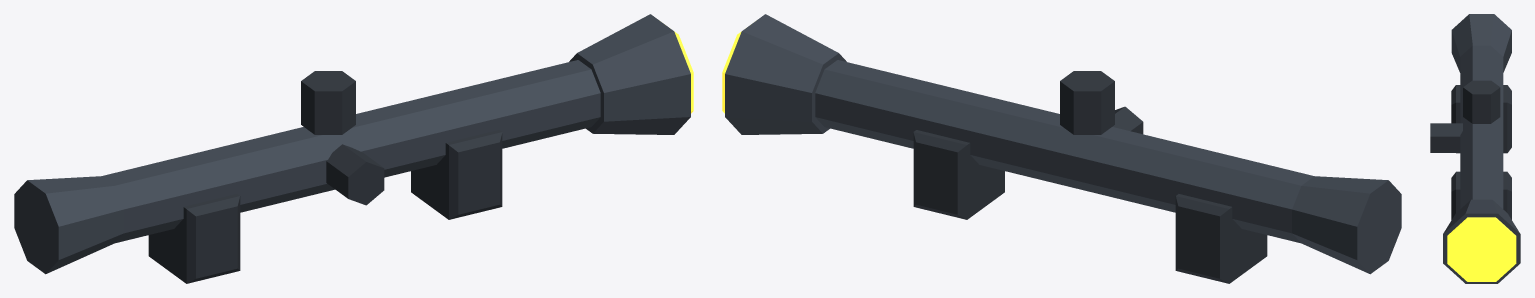
The model's file is sight_scope.glb.
3 views of the same model, side by side, from view 1: azimuth 30°, elevation 25°; view 2: azimuth 150°, elevation 25°; view 3: azimuth 270°, elevation 25° (orthographic). The views are drawn at different scales.
Parts seen in each view (by area): view 1: sight_scope; view 2: sight_scope; view 3: sight_scope.
Boxes of the visible parts, left/top/right/bottom form: sight_scope: left=14, top=14, right=693, bottom=283; sight_scope: left=722, top=14, right=1401, bottom=283; sight_scope: left=1430, top=14, right=1520, bottom=283.
Size of the model in its own units: 0.212 by 0.048 by 0.0386.
